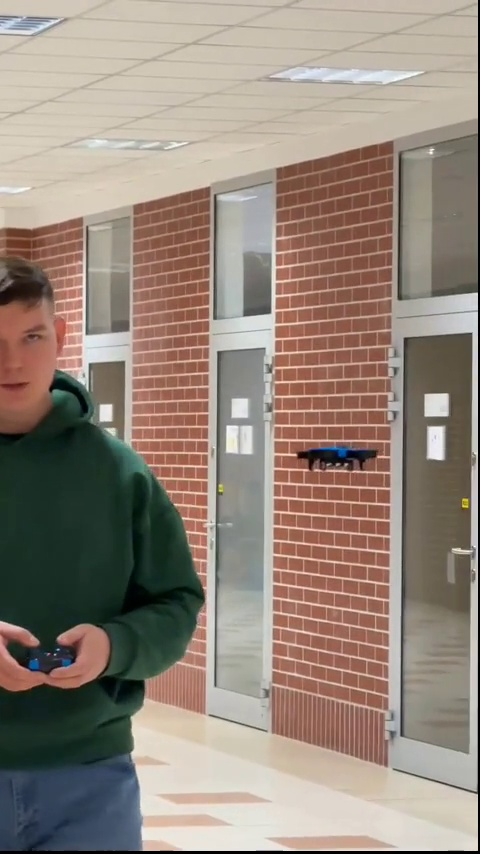drone: (296, 445, 378, 473)
no vest: (0, 252, 214, 848)
